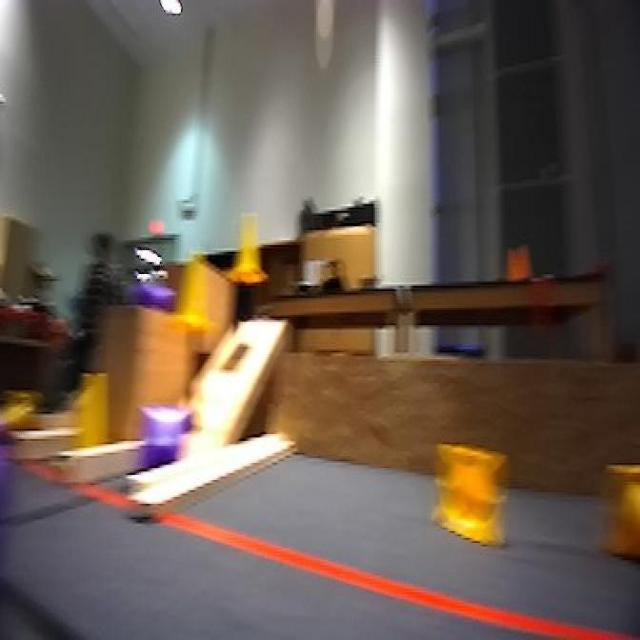frc_cone: (432, 441, 512, 553), (59, 364, 115, 482), (606, 459, 640, 561), (176, 247, 212, 339), (0, 381, 39, 441), (237, 220, 261, 296)
frc_cube: (133, 410, 177, 489), (0, 435, 12, 640), (118, 276, 175, 311)
